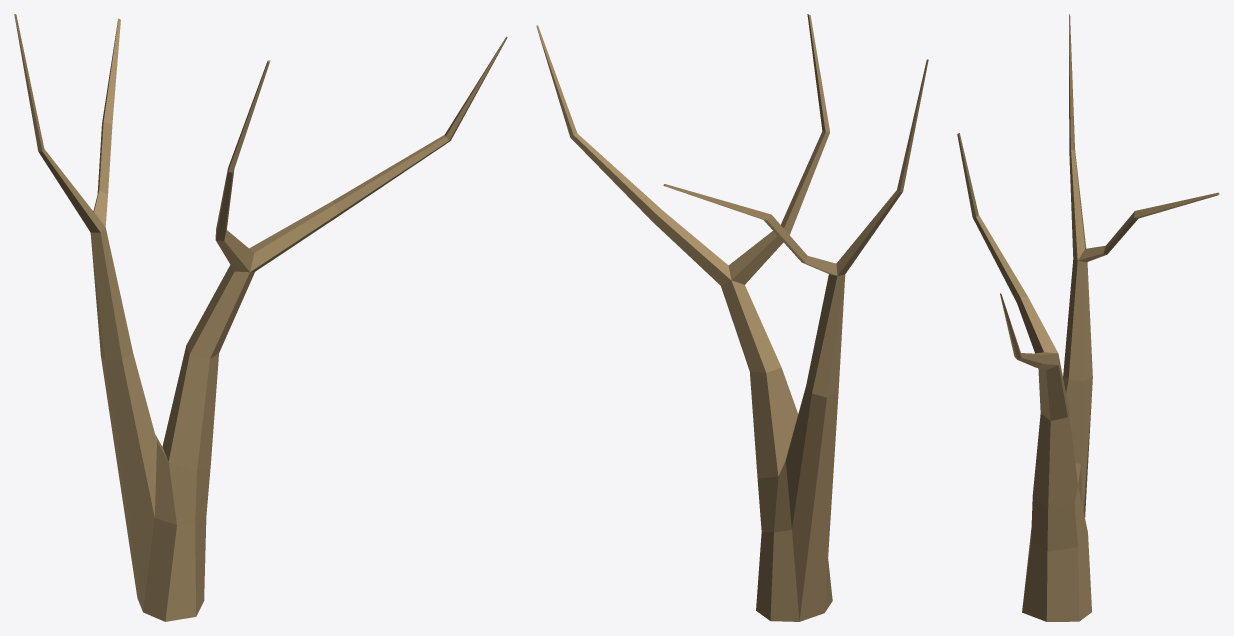
The model's file is Apple_Tree_NoLeaves_m_07_LOD.fbx.
The picture shows the model from 3 angles, left to right: view 1: azimuth 30°, elevation 25°; view 2: azimuth 150°, elevation 25°; view 3: azimuth 270°, elevation 25°; orthographic projection. The views are drawn at different scales.
Visible parts, largest first — view 1: Apple_Tree_NoLeaves_m_07_LOD0; view 2: Apple_Tree_NoLeaves_m_07_LOD0; view 3: Apple_Tree_NoLeaves_m_07_LOD0.
Boxes of the visible parts, left/top/right/bottom form: Apple_Tree_NoLeaves_m_07_LOD0: left=14, top=14, right=507, bottom=621; Apple_Tree_NoLeaves_m_07_LOD0: left=536, top=14, right=928, bottom=621; Apple_Tree_NoLeaves_m_07_LOD0: left=957, top=14, right=1219, bottom=621.
Size of what is drawn, in the model's own units: 384 by 501 by 223.
